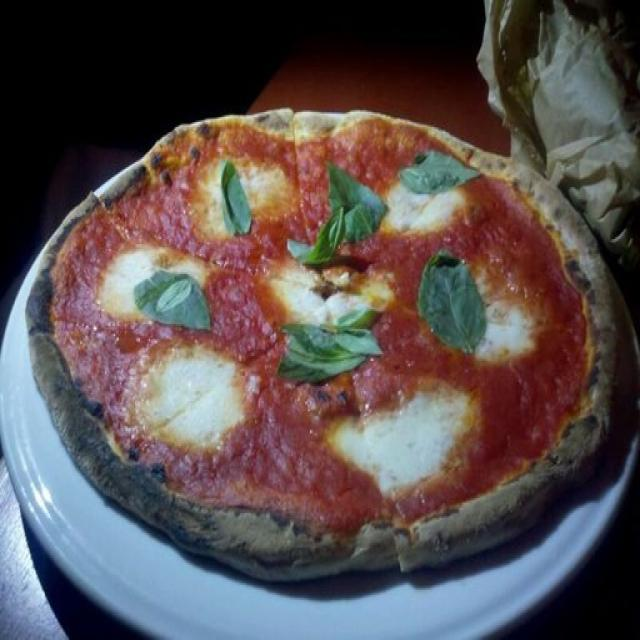Basil: (415, 250, 489, 366), (277, 309, 376, 387), (135, 270, 214, 336), (324, 172, 386, 238), (284, 202, 346, 266), (402, 142, 477, 186), (219, 161, 255, 239)
Cheese: (321, 388, 470, 504), (100, 237, 216, 328), (149, 351, 240, 447), (201, 155, 288, 240), (276, 258, 378, 328), (474, 276, 532, 367), (388, 172, 454, 238)
Pizza: (28, 110, 616, 578)
